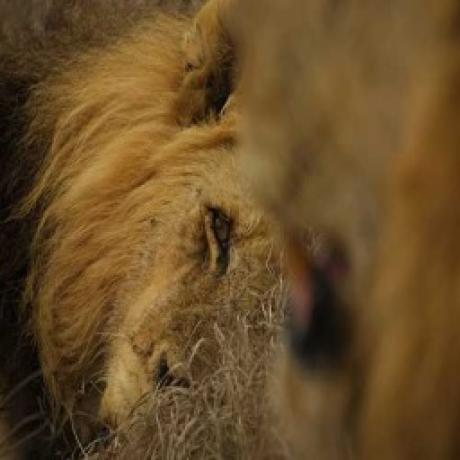Lion: (0, 0, 291, 460)
